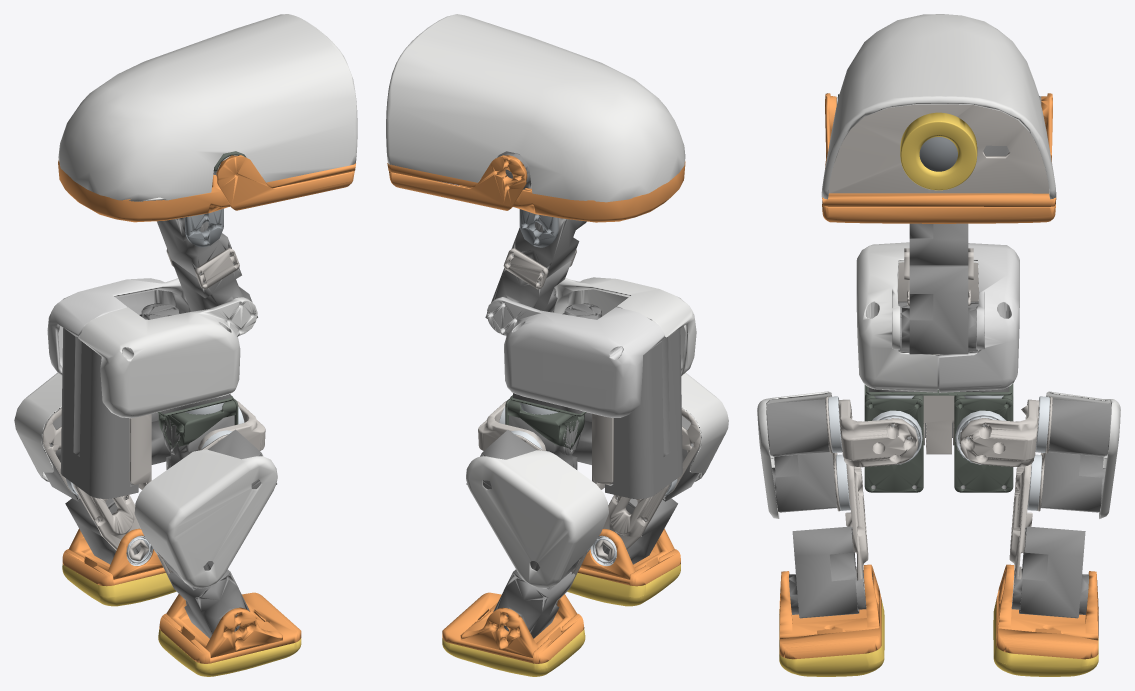
3 renders of one model, left to right at view 1: azimuth 30°, elevation 25°; view 2: azimuth 150°, elevation 25°; view 3: azimuth 270°, elevation 25°, orthographic. The views are drawn at different scales.
Parts seen in each view (by area): view 1: visual_65_top_head_shell_71, visual_1_right_shell_3, visual_96_upper_leg_right_100, visual_1_np_f970_8, visual_1_left_shell_10, visual_65_bottom_head_shell_78, visual_65_jaw_77, visual_109_ankle_right_110, visual_109_foot_right_113, visual_26_upper_leg_left_27, visual_104_xl330_105, visual_39_sole_left_40 (+17 smaller); view 2: visual_65_top_head_shell_71, visual_1_left_shell_10, visual_26_upper_leg_left_27, visual_1_np_f970_8, visual_1_right_shell_3, visual_65_bottom_head_shell_78, visual_65_jaw_77, visual_39_ankle_left_43, visual_39_foot_left_41, visual_96_upper_leg_right_100, visual_34_xl330_36, visual_109_sole_right_111 (+17 smaller); view 3: visual_65_top_head_shell_71, visual_65_face_part_67, visual_1_right_shell_3, visual_1_left_shell_10, visual_46_xl330_48, visual_104_xl330_105, visual_34_xl330_36, visual_65_jaw_77, visual_65_noenoeil_76, visual_21_hip_l_23, visual_91_hip_l_92, visual_96_xl330_97 (+25 smaller).
Part boxes in pixels (x1,y1,x2,y2): visual_65_top_head_shell_71: (58, 14, 357, 201); visual_1_right_shell_3: (78, 297, 257, 418); visual_96_upper_leg_right_100: (134, 449, 277, 588); visual_1_np_f970_8: (60, 328, 138, 498); visual_1_left_shell_10: (47, 278, 190, 375); visual_65_bottom_head_shell_78: (58, 160, 355, 222); visual_65_jaw_77: (216, 155, 354, 210); visual_109_ankle_right_110: (166, 594, 282, 657); visual_109_foot_right_113: (159, 592, 301, 663); visual_26_upper_leg_left_27: (14, 373, 62, 481); visual_104_xl330_105: (168, 569, 249, 638); visual_39_sole_left_40: (62, 564, 176, 606); visual_65_top_head_shell_71: (386, 14, 685, 202); visual_1_left_shell_10: (487, 297, 664, 417); visual_26_upper_leg_left_27: (466, 450, 608, 588); visual_1_np_f970_8: (605, 328, 682, 498); visual_1_right_shell_3: (552, 277, 696, 375); visual_65_bottom_head_shell_78: (387, 161, 685, 222); visual_65_jaw_77: (389, 155, 527, 210); visual_39_ankle_left_43: (460, 594, 576, 657); visual_39_foot_left_41: (442, 592, 584, 663); visual_96_upper_leg_right_100: (681, 372, 728, 482); visual_34_xl330_36: (493, 569, 575, 638); visual_109_sole_right_111: (567, 564, 680, 606); visual_65_top_head_shell_71: (821, 14, 1056, 199); visual_65_face_part_67: (829, 104, 1048, 193); visual_1_right_shell_3: (856, 242, 937, 392); visual_1_left_shell_10: (935, 243, 1019, 392); visual_46_xl330_48: (902, 265, 975, 354); visual_104_xl330_105: (789, 526, 866, 618); visual_34_xl330_36: (1011, 526, 1088, 618); visual_65_jaw_77: (822, 93, 1055, 223); visual_65_noenoeil_76: (900, 112, 977, 190); visual_21_hip_l_23: (960, 399, 1039, 466); visual_91_hip_l_92: (838, 399, 918, 467); visual_96_xl330_97: (772, 452, 837, 512).
Bounding box in the file's own units: 0.1229 × 0.2716 × 0.1421.
